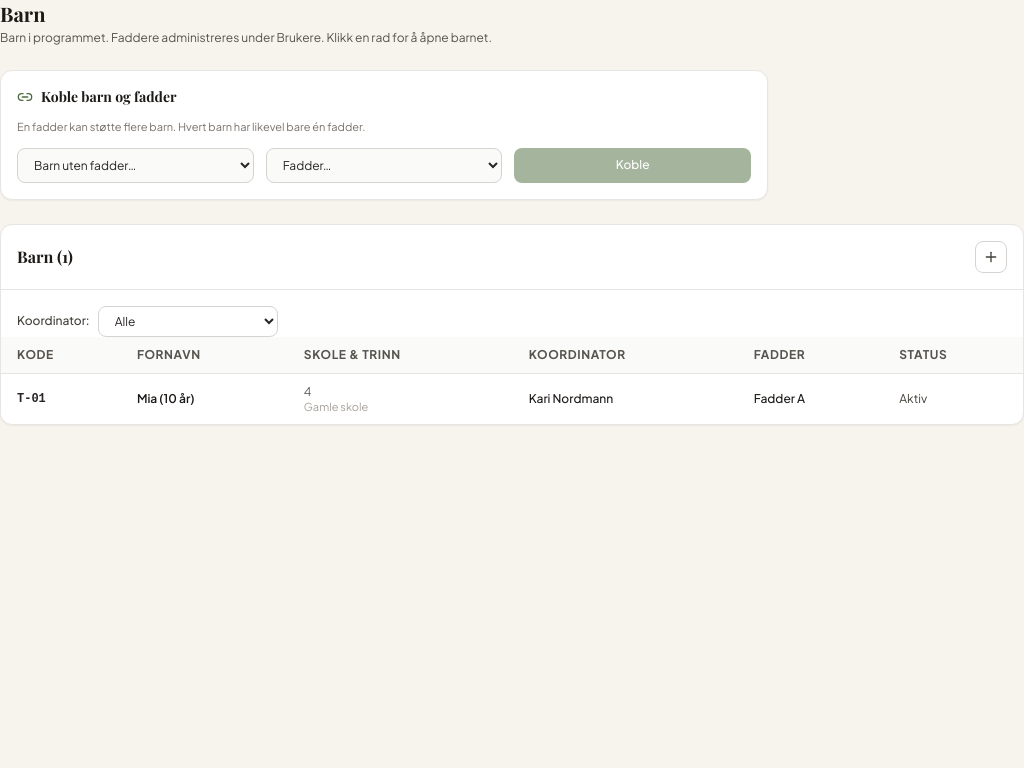
Test: Barnesiden: åpne og gå tilbake › klikk på en rad viser hele barnesiden, og Tilbake til Barn viser listen igjen
Click the text "T-01".
click(31, 399)  # box [1,373,121,424]
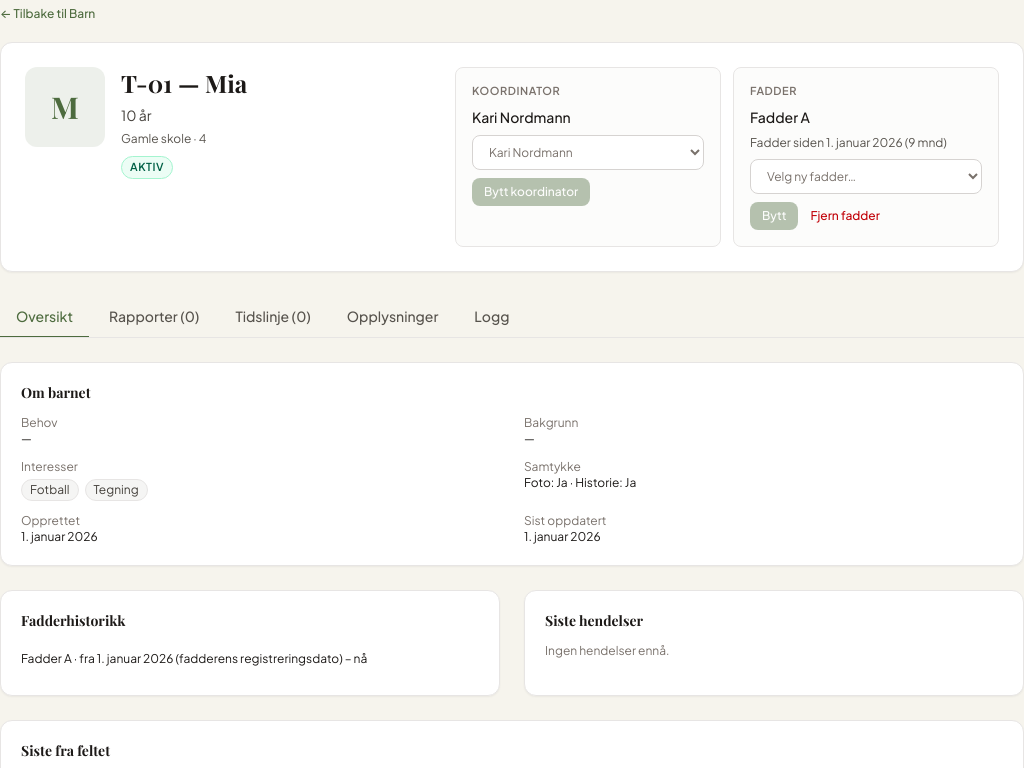
Now the heading "T-01 — Mia" is shown, box [121,67,247,99]
Now the element showing "Oversikt Rapporter (0) Tidslinje (0) Opplysninger Logg" is shown, box [0,296,1023,338]
Now the heading "Barn (1)" is gone
Click the button "← Tilbake til Barn".
click(48, 14)  # box [0,6,95,22]
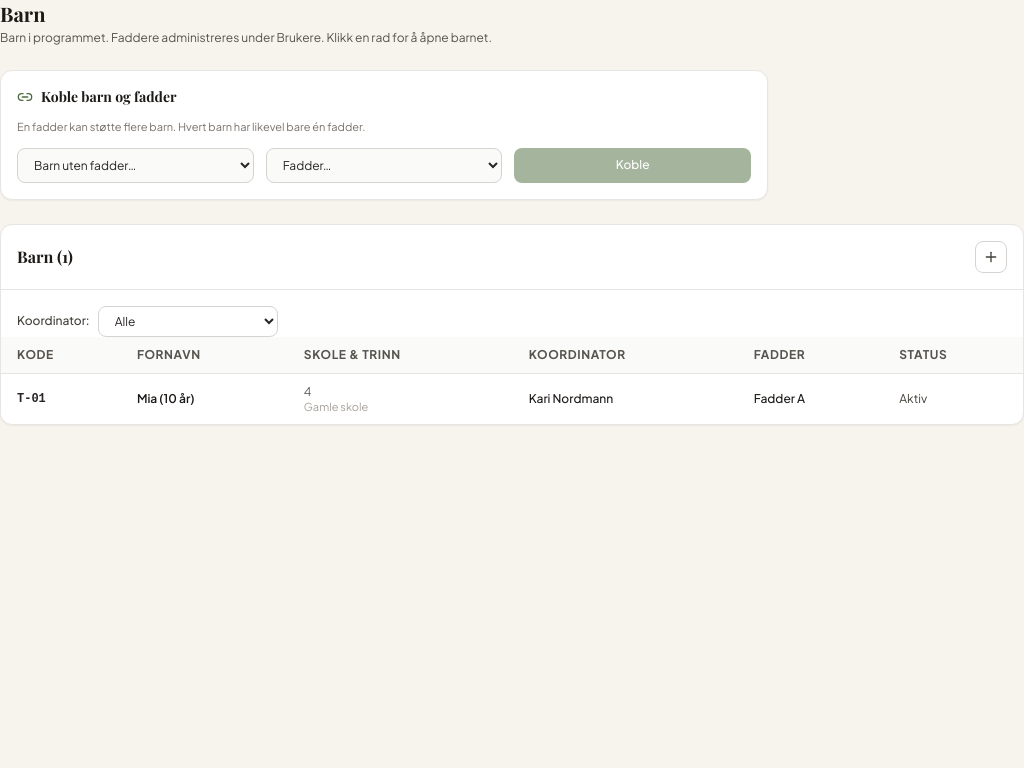
Now the heading "Barn (1)" is shown, box [17,244,73,268]
